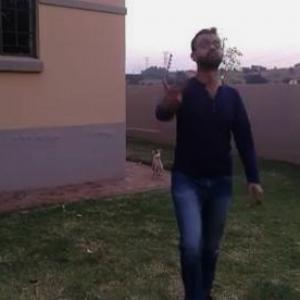takeoff-hand: (157, 74, 188, 114)
